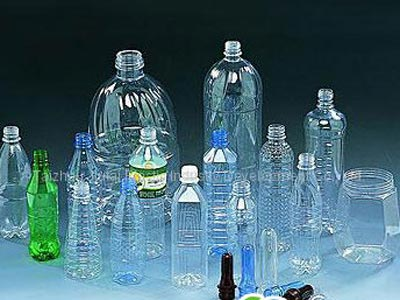bottle: (19, 148, 64, 272), (106, 178, 152, 288), (173, 157, 205, 289), (291, 150, 322, 277)
